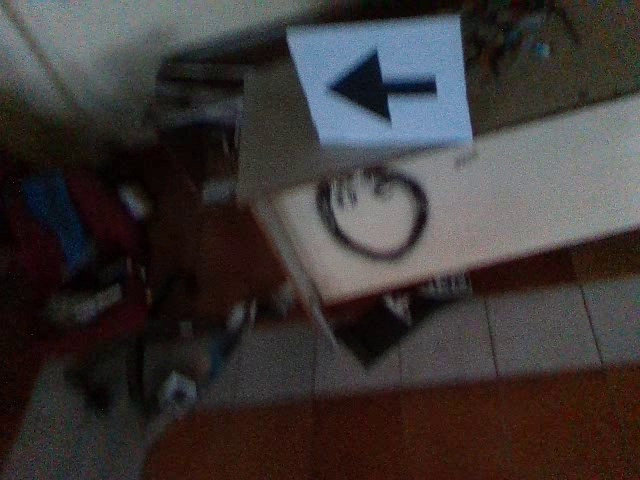Left: (321, 43, 443, 130)
